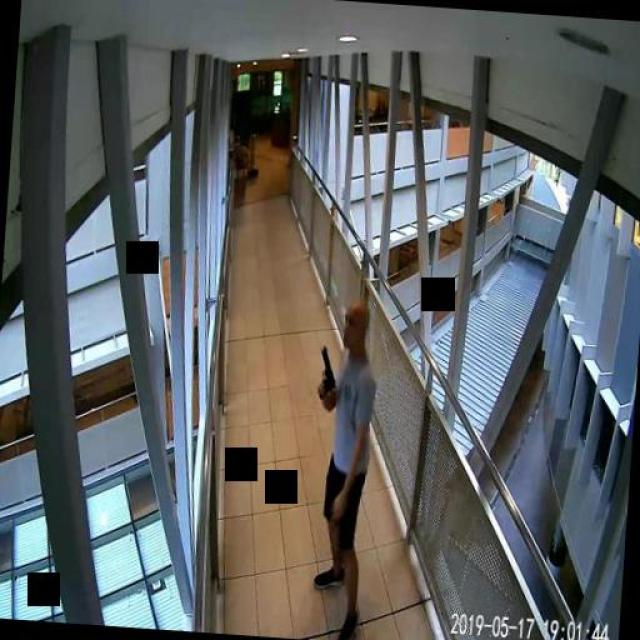gun: (315, 346, 337, 399)
